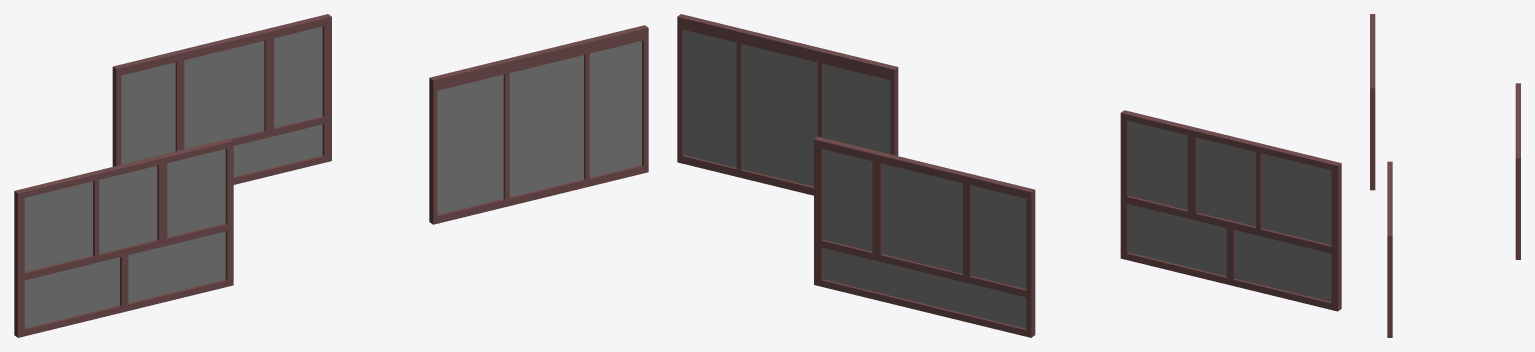
File: uploads_files_4274396_window.fbx
3 renders of one model, left to right at view 1: azimuth 30°, elevation 25°; view 2: azimuth 150°, elevation 25°; view 3: azimuth 270°, elevation 25°, orthographic. The views are drawn at different scales.
Parts seen in each view (by area): view 1: pCube1, pCube3, pCube2; view 2: pCube2, pCube3, pCube1; view 3: pCube1, pCube2, pCube3.
Part boxes in pixels (bbox=[...]): pCube1: bbox=[429, 25, 648, 224]; pCube3: bbox=[14, 138, 233, 337]; pCube2: bbox=[112, 14, 331, 184]; pCube2: bbox=[814, 136, 1035, 337]; pCube3: bbox=[1120, 110, 1341, 311]; pCube1: bbox=[677, 14, 898, 195]; pCube1: bbox=[1387, 161, 1392, 337]; pCube2: bbox=[1515, 83, 1520, 259]; pCube3: bbox=[1370, 14, 1375, 190].
Size of the model in its own units: 33.1 by 7.1 by 9.51.
